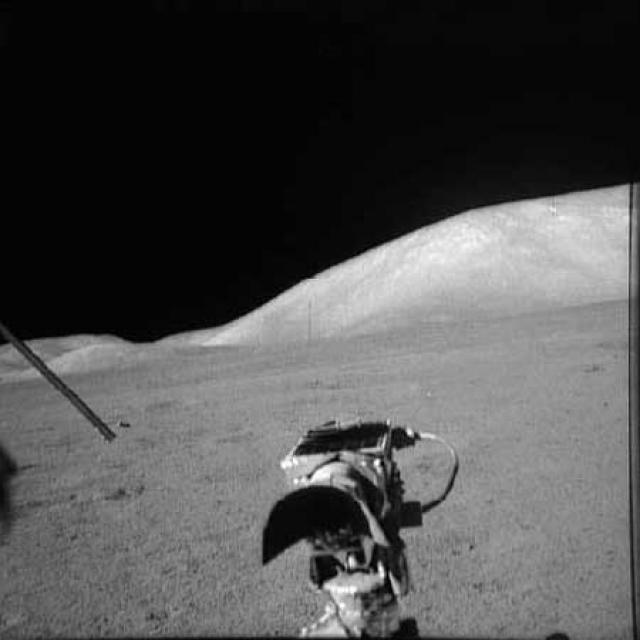artifact: (254, 411, 466, 639), (0, 304, 124, 446)
